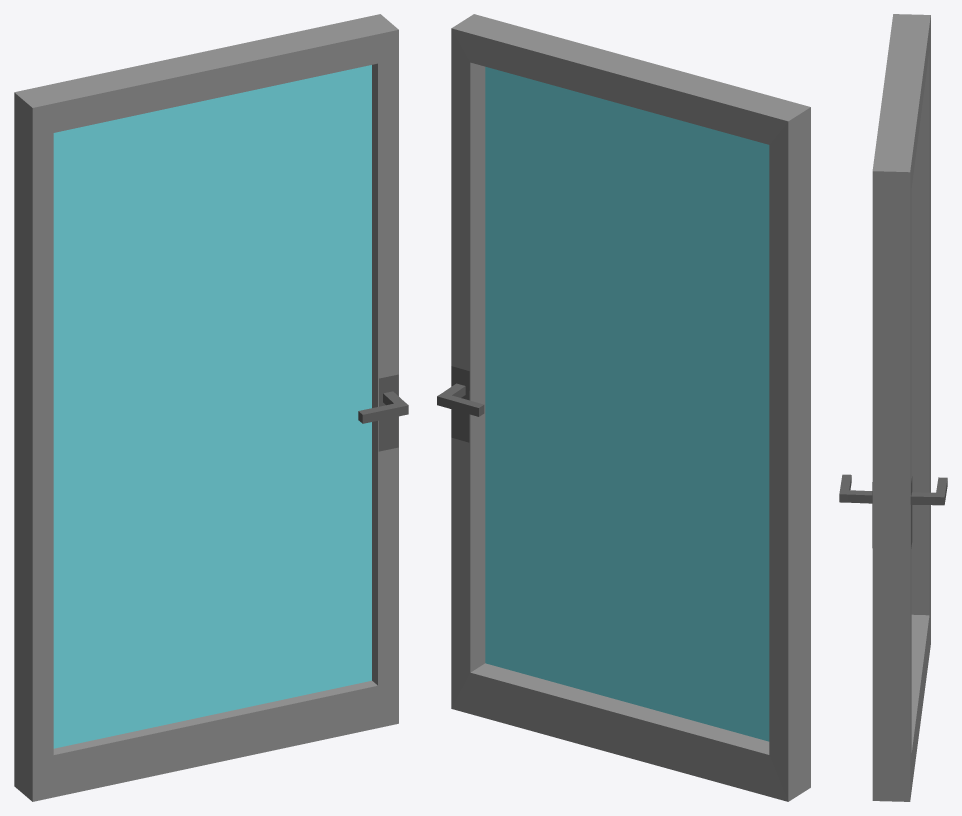
File: ES_DOOR_B.glb
3 renders of one model, left to right at view 1: azimuth 30°, elevation 25°; view 2: azimuth 150°, elevation 25°; view 3: azimuth 270°, elevation 25°, orthographic. The views are drawn at different scales.
Parts seen in each view (by area): view 1: ES_SOOR_B.001; view 2: ES_SOOR_B.001; view 3: ES_SOOR_B.001.
Part boxes in pixels (x1,y1,x2,y2): ES_SOOR_B.001: [14, 14, 408, 801]; ES_SOOR_B.001: [437, 14, 810, 801]; ES_SOOR_B.001: [839, 14, 947, 801].
Bounding box in the file's own units: 1.25 × 2.32 × 0.3621.
